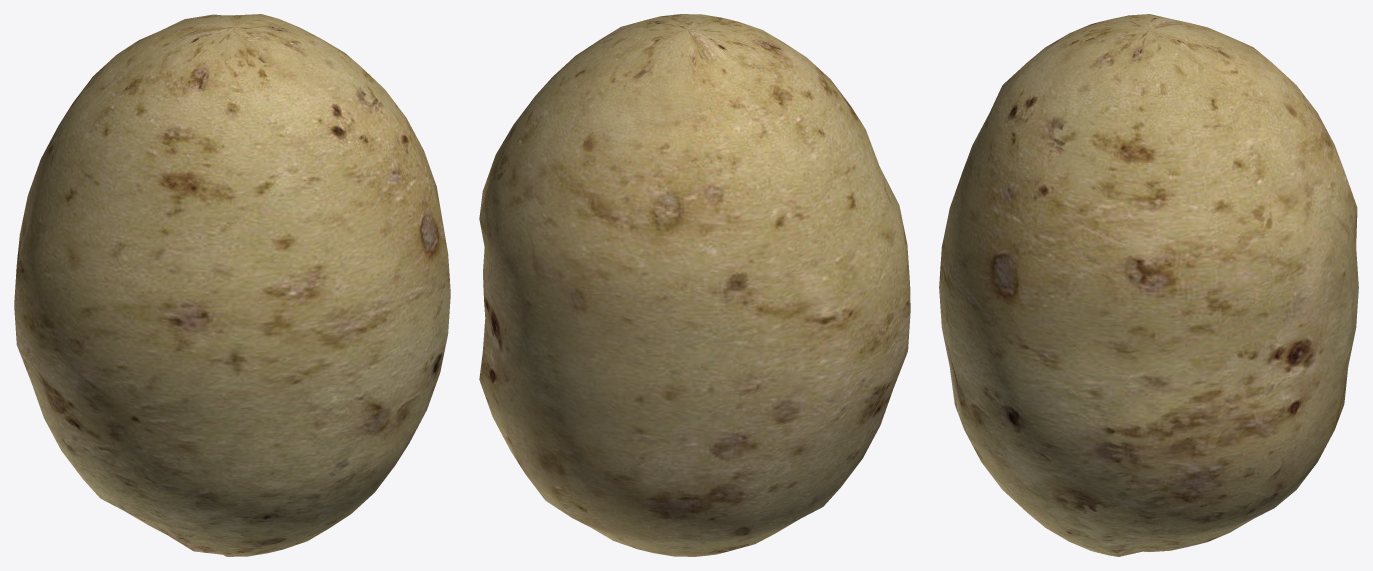
The model's file is maya_potato.fbx.
3 renders of one model, left to right at view 1: azimuth 30°, elevation 25°; view 2: azimuth 150°, elevation 25°; view 3: azimuth 270°, elevation 25°, orthographic.
Parts seen in each view (by area): view 1: potato; view 2: potato; view 3: potato.
Part boxes in pixels (x1,y1,x2,y2): potato: (14, 14, 450, 556); potato: (479, 14, 910, 556); potato: (939, 14, 1358, 556).
Bounding box in the file's own units: 202 × 255 × 192.
1 material, 1 textured.
